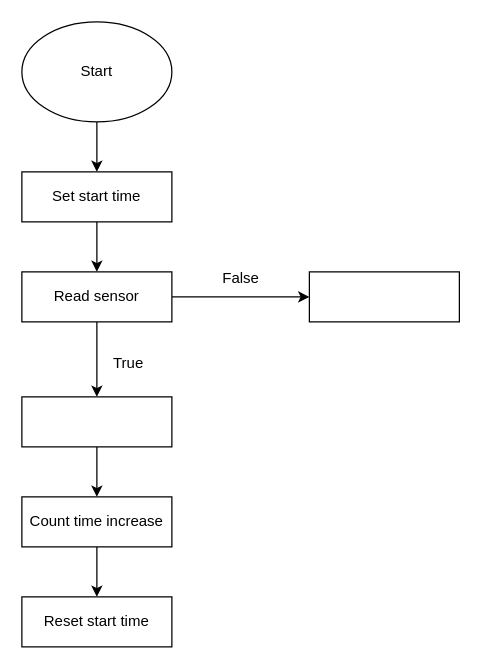
Some shapes in this 481 by 669 pixel diagram are drawn without their labels. The centre of each missing label's shape, as x and y in pixels:
"Calculate and accumulate data" goes at (x=96, y=421).
"NONE_VALUE" goes at (x=383, y=296).
